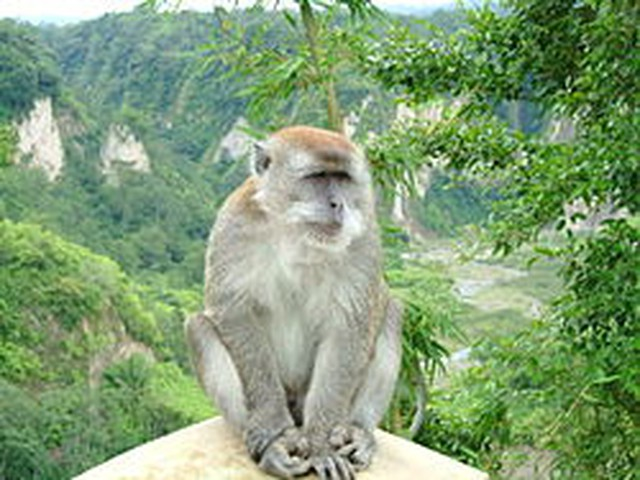Monkey: (183, 123, 412, 475)
